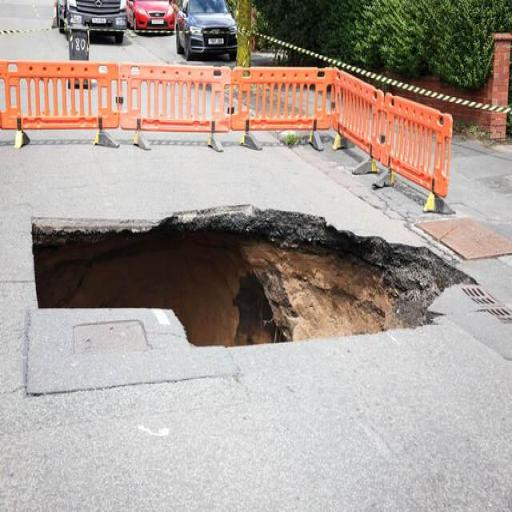Concentric_Crack: (33, 210, 471, 345)
